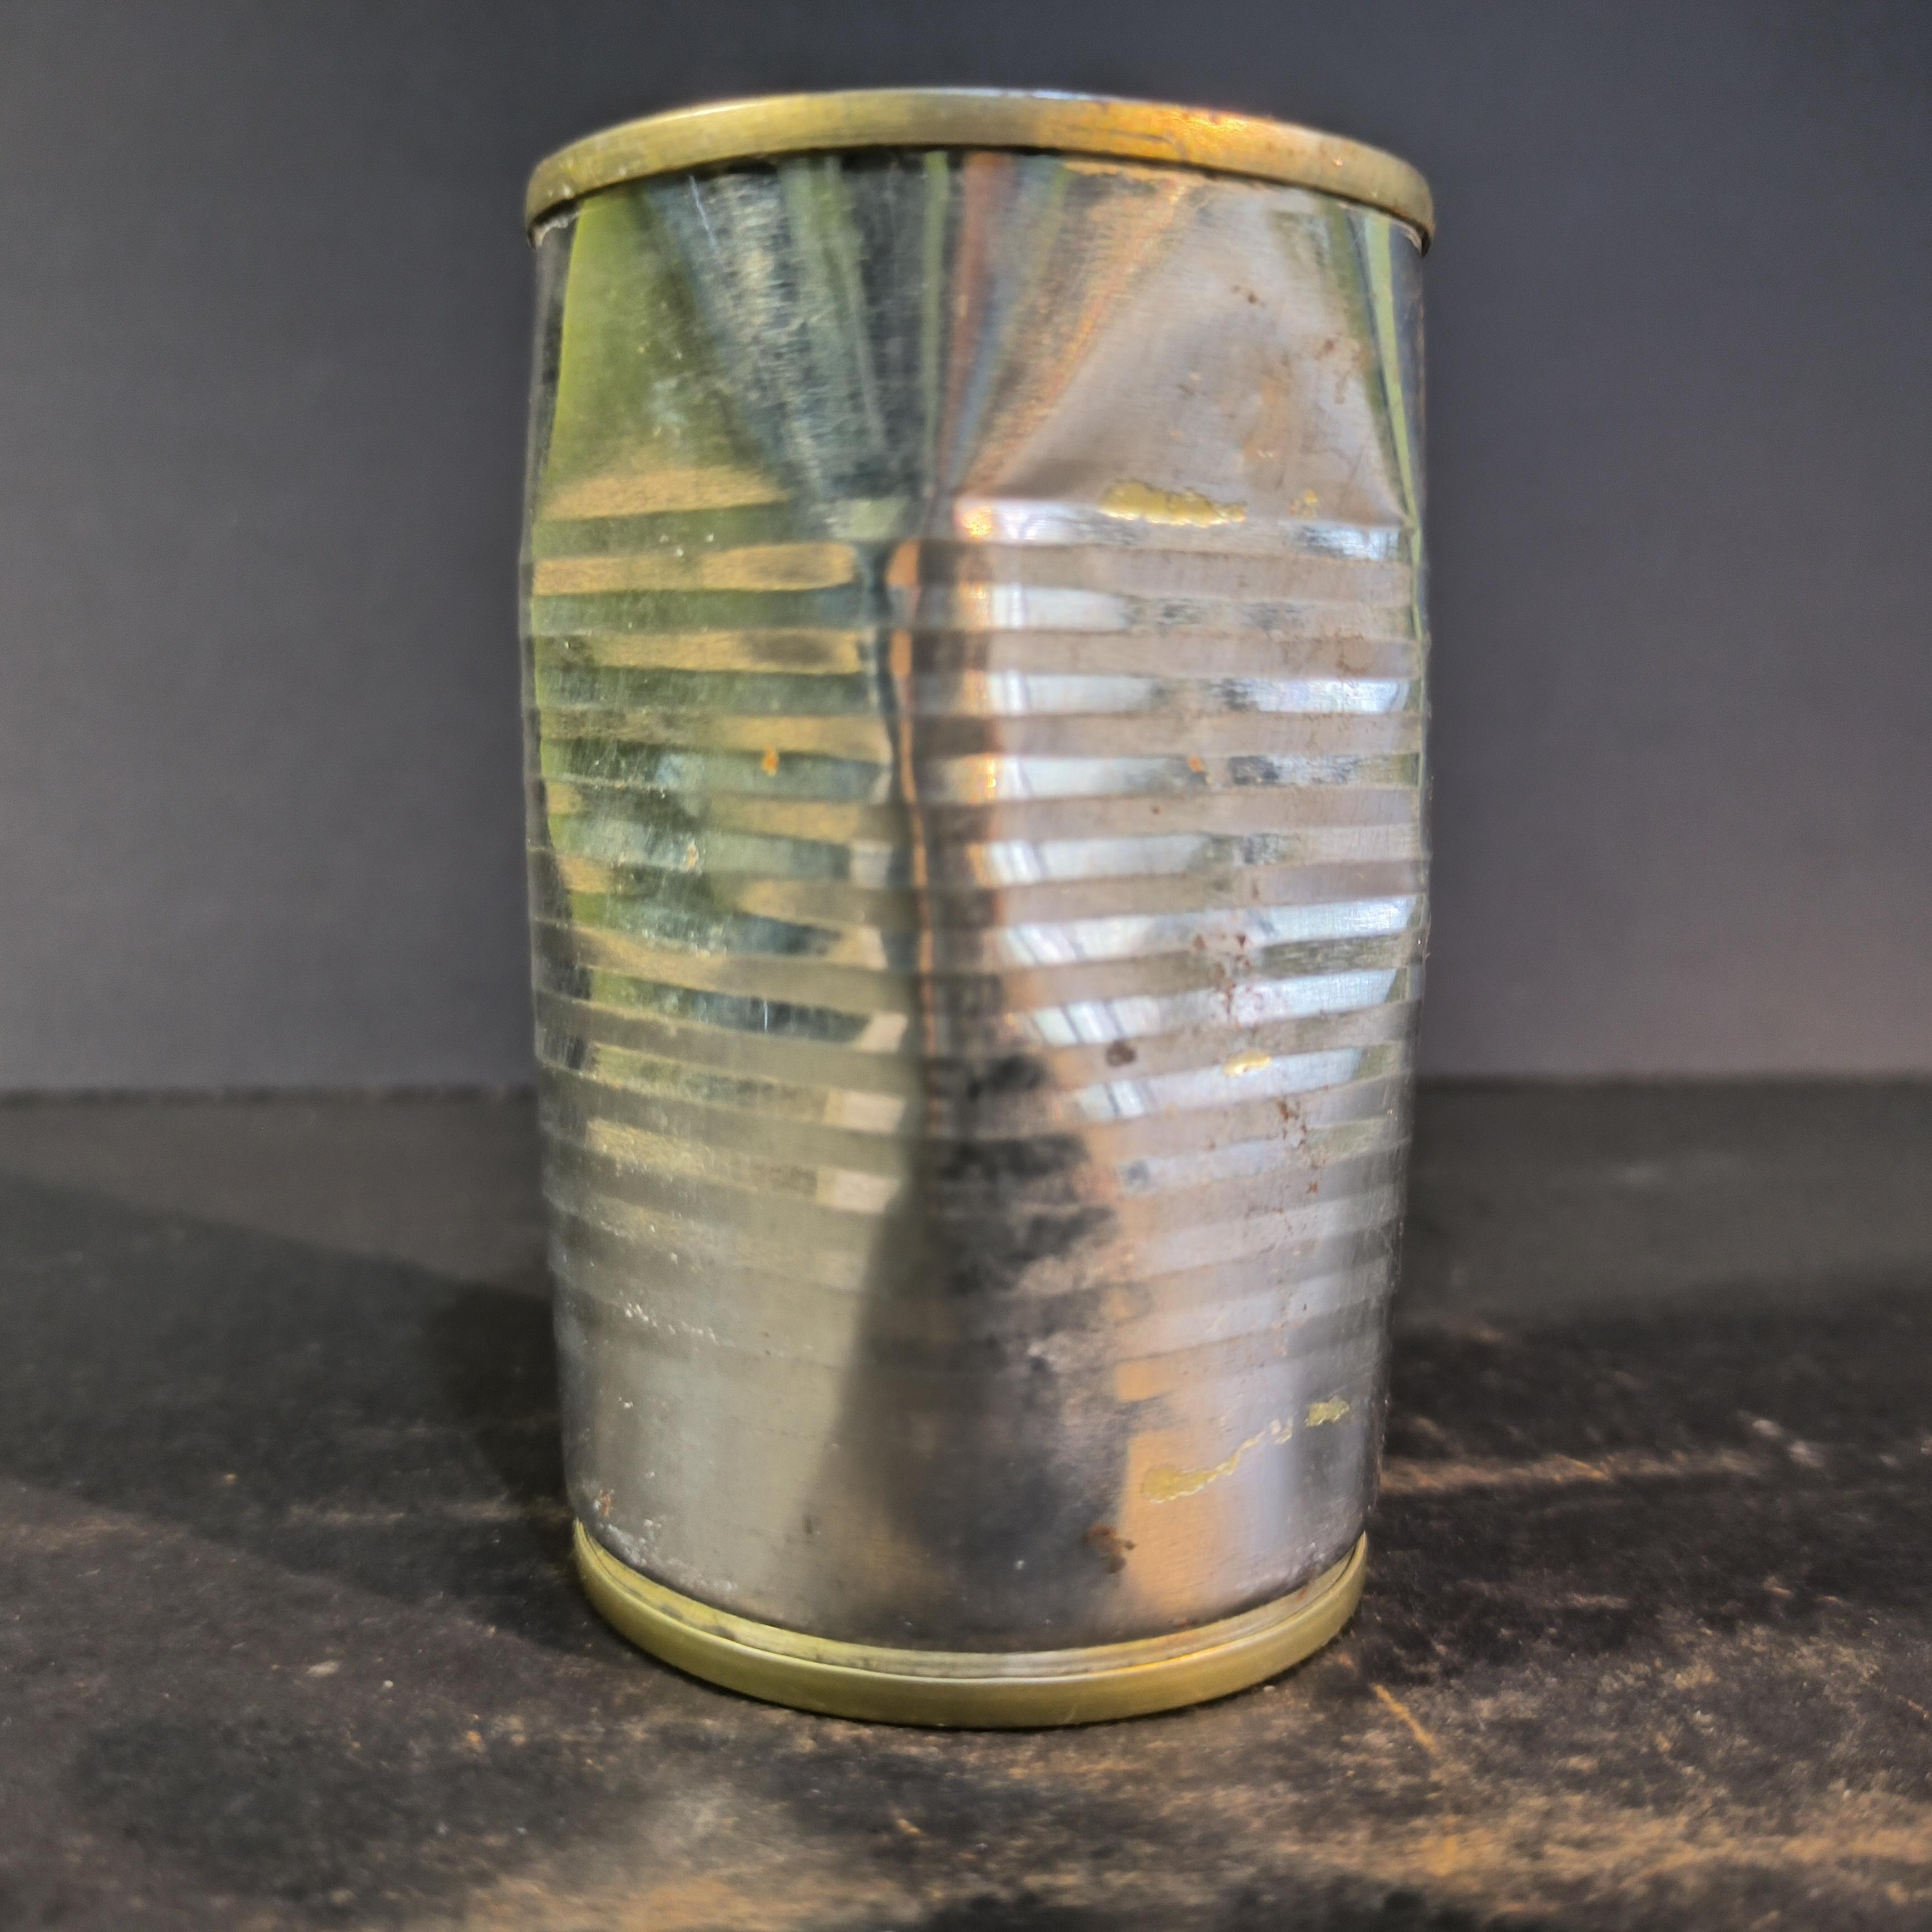Dented: (492, 50, 1453, 1760)
